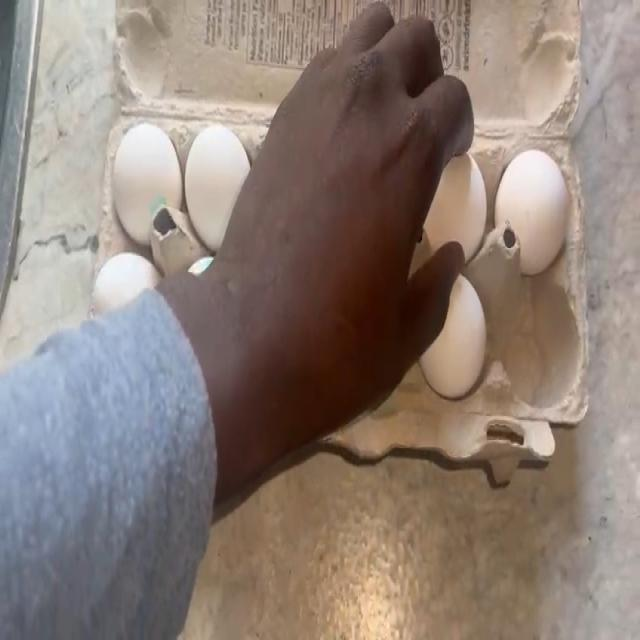Egg: (503, 147, 564, 253), (112, 131, 172, 227), (183, 131, 243, 218), (442, 293, 494, 380), (439, 165, 484, 239), (92, 258, 154, 302)
